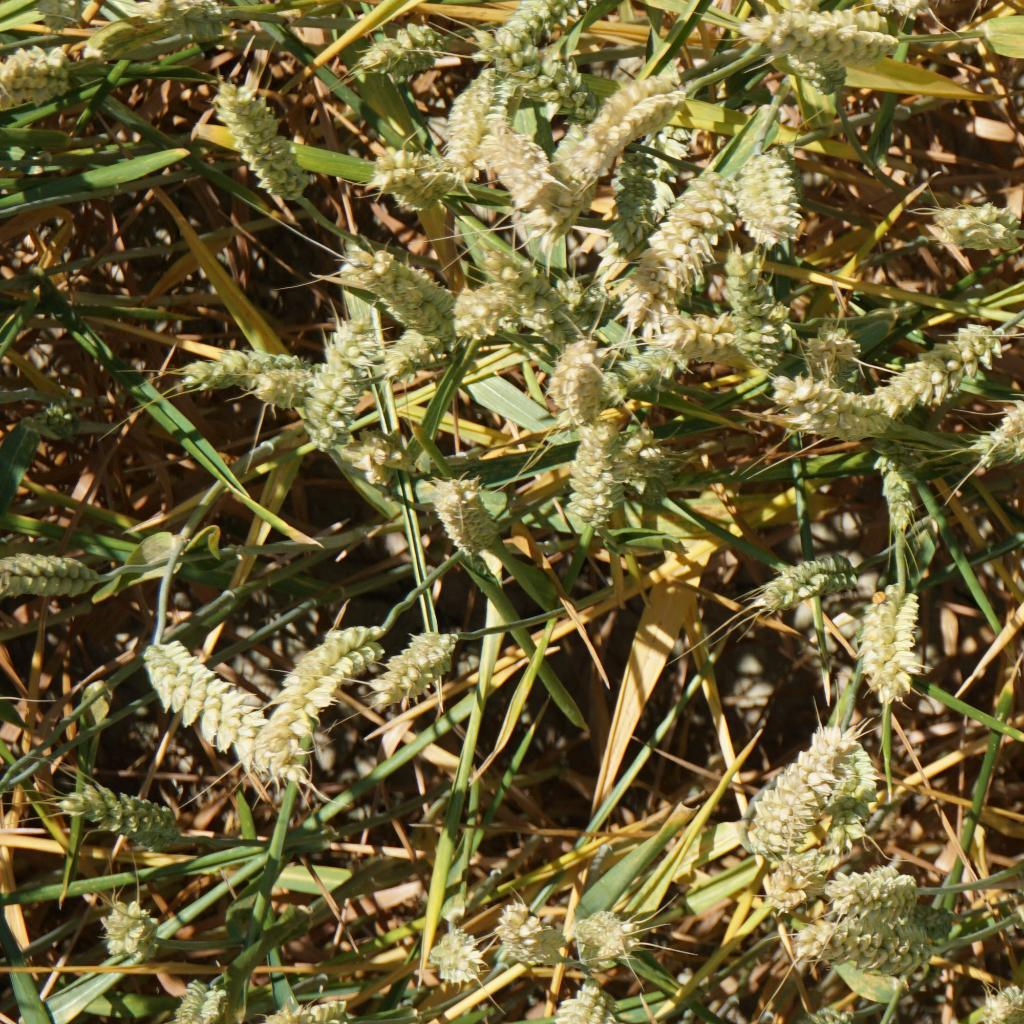0-0: (540, 53, 675, 169), (257, 626, 355, 769), (209, 77, 319, 202), (142, 636, 252, 751), (632, 159, 717, 289), (464, 28, 593, 113), (885, 311, 1001, 399), (744, 732, 820, 852), (51, 780, 183, 848), (779, 363, 902, 434), (335, 247, 451, 322), (861, 581, 926, 704), (304, 321, 369, 443), (738, 6, 896, 56), (798, 915, 934, 972), (486, 246, 561, 347), (716, 254, 791, 352), (0, 549, 117, 608), (560, 406, 615, 525), (170, 341, 294, 392), (729, 158, 804, 241), (477, 118, 552, 200), (89, 886, 172, 960), (379, 634, 463, 707), (355, 18, 453, 79), (366, 142, 463, 202), (602, 142, 666, 231), (927, 192, 1019, 252), (828, 732, 888, 823), (750, 555, 857, 605), (656, 301, 751, 356), (823, 865, 916, 919), (539, 331, 600, 413), (438, 73, 496, 154), (867, 454, 923, 537), (0, 49, 87, 102), (566, 904, 638, 968), (485, 0, 592, 42), (433, 488, 498, 556), (764, 41, 849, 92), (496, 905, 562, 967), (451, 278, 508, 345), (425, 920, 484, 979), (253, 990, 351, 1024), (563, 269, 624, 323), (796, 318, 860, 367), (760, 848, 813, 907), (356, 432, 406, 493), (616, 433, 678, 482), (379, 331, 439, 380), (175, 973, 229, 1024), (566, 979, 622, 1024), (247, 367, 309, 406), (147, 0, 224, 31), (978, 981, 1024, 1024), (35, 0, 98, 30), (988, 417, 1024, 460), (852, 0, 930, 19), (1001, 367, 1024, 426)
